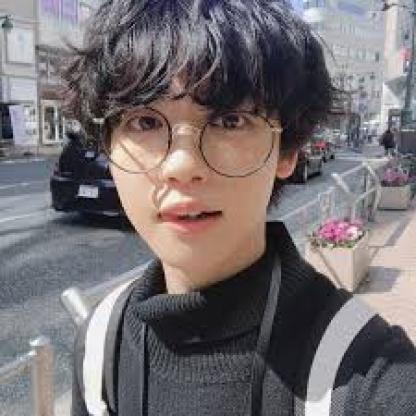person: (70, 0, 302, 269)
